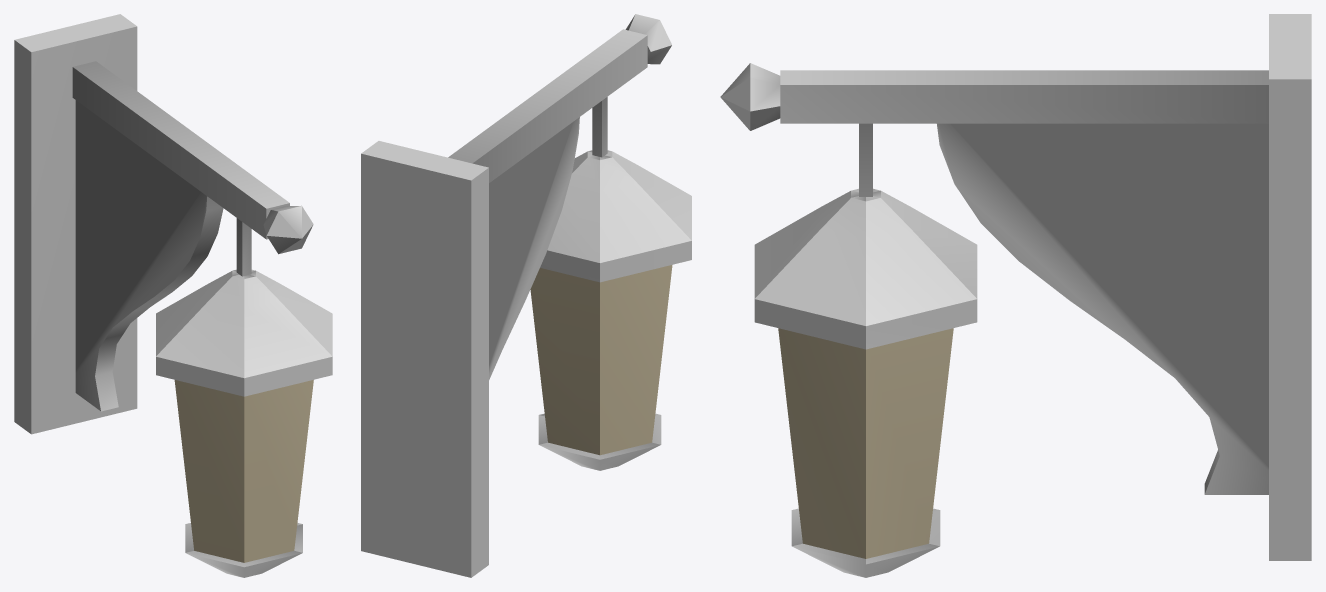
Rendered from lamp_wall.glb.
3 views of the same model, side by side, from view 1: azimuth 30°, elevation 25°; view 2: azimuth 150°, elevation 25°; view 3: azimuth 270°, elevation 25° (orthographic). The views are drawn at different scales.
Visible parts, largest first — view 1: lamp_wall_CL_Fabric, lamp_wall_CL_Glow; view 2: lamp_wall_CL_Fabric, lamp_wall_CL_Glow; view 3: lamp_wall_CL_Fabric, lamp_wall_CL_Glow.
Part boxes in pixels (box(x1,y1,x2,y2)): lamp_wall_CL_Fabric: box(14, 14, 332, 577); lamp_wall_CL_Glow: box(174, 380, 313, 562); lamp_wall_CL_Fabric: box(361, 14, 691, 577); lamp_wall_CL_Glow: box(530, 265, 672, 455); lamp_wall_CL_Fabric: box(720, 14, 1311, 577); lamp_wall_CL_Glow: box(778, 328, 953, 558).
Bounding box in the file's own units: 0.3 × 0.67 × 0.69.
